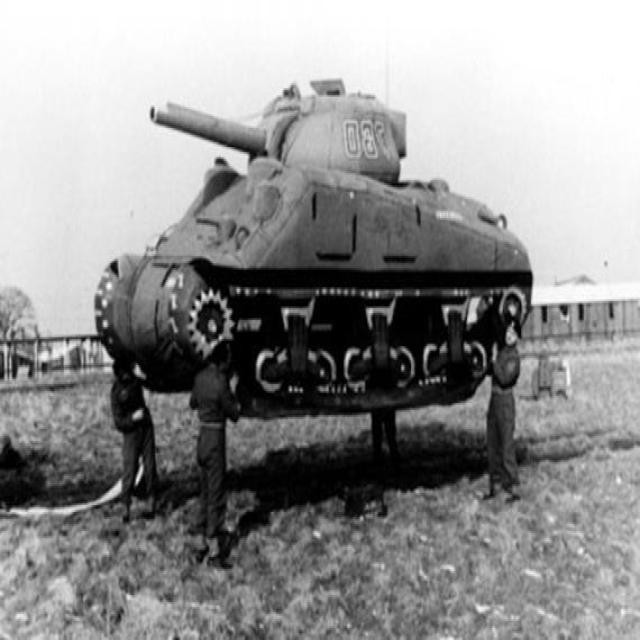MIL_MBT: (96, 73, 552, 382)
